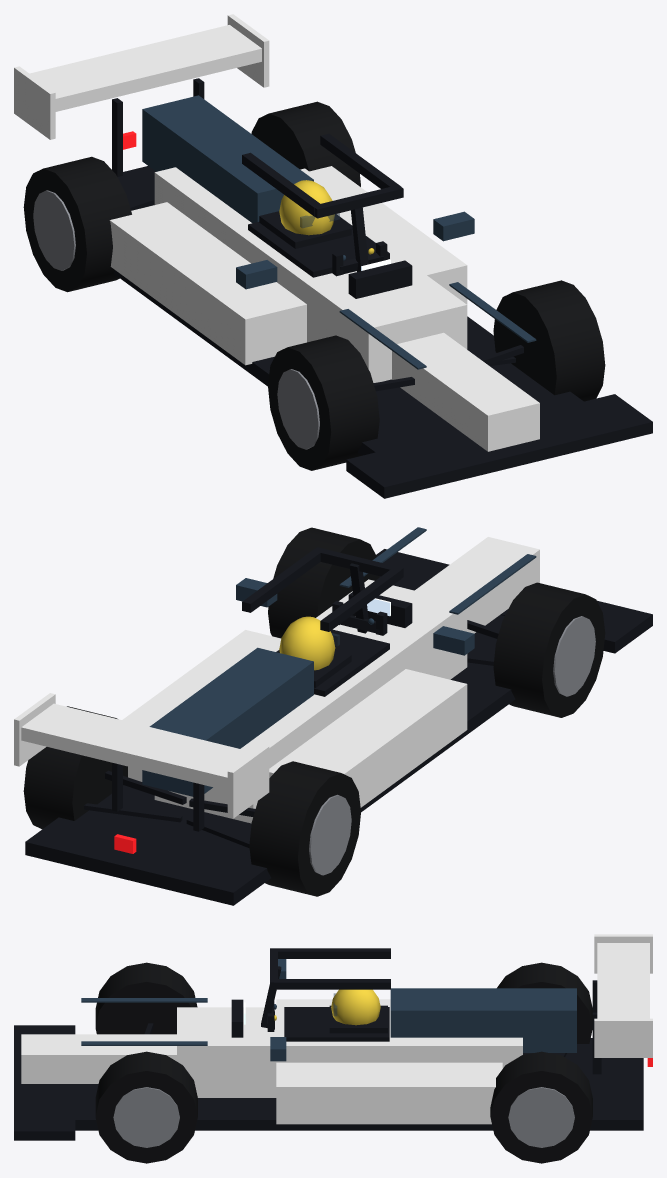
The model's file is kyojo.glb.
3 views of the same model, one above another, from view 1: azimuth 30°, elevation 25°; view 2: azimuth 150°, elevation 25°; view 3: azimuth 270°, elevation 25° (orthographic). The views are drawn at different scales.
Parts seen in each view (by area): view 1: sidepod-left, survival-cell, front-wing, engine-cover, nose, tyre-1-1, tyre--1-1, rear-wing, tyre--1--1, floor, sidepod-right, tyre-1--1 (+17 smaller); view 2: floor, sidepod-left, survival-cell, engine-cover, tyre--1-1, tyre--1--1, rear-wing, tyre-1-1, nose, tyre-1--1, sidepod-right, front-wing (+18 smaller); view 3: sidepod-right, survival-cell, engine-cover, floor, tyre-1-1, tyre-1--1, nose, tyre--1-1, front-wing, rear-wing, rim-1-1, rim-1--1 (+14 smaller).
Part boxes in pixels (left/top/right/bottom): sidepod-left: left=109, top=202, right=306, bottom=365; survival-cell: left=154, top=167, right=467, bottom=382; front-wing: left=346, top=394, right=652, bottom=498; engine-cover: left=142, top=95, right=313, bottom=223; nose: left=392, top=332, right=539, bottom=451; tyre-1-1: left=493, top=280, right=605, bottom=401; tyre--1-1: left=268, top=335, right=379, bottom=470; rear-wing: left=29, top=25, right=261, bottom=111; tyre--1--1: left=23, top=156, right=131, bottom=292; floor: left=113, top=166, right=583, bottom=455; sidepod-right: left=300, top=166, right=467, bottom=304; tyre-1--1: left=251, top=101, right=360, bottom=186; floor: left=25, top=615, right=515, bottom=905; sidepod-left: left=269, top=669, right=467, bottom=807; survival-cell: left=154, top=579, right=467, bottom=823; engine-cover: left=142, top=647, right=313, bottom=796; tyre--1-1: left=493, top=582, right=605, bottom=717; tyre--1--1: left=249, top=761, right=360, bottom=896; rear-wing: left=21, top=703, right=253, bottom=790; tyre-1-1: left=268, top=527, right=379, bottom=638; nose: left=415, top=537, right=539, bottom=633; tyre-1--1: left=23, top=706, right=127, bottom=829; sidepod-right: left=122, top=630, right=280, bottom=781; front-wing: left=376, top=549, right=652, bottom=653; sidepod-right: left=276, top=1062, right=502, bottom=1124; survival-cell: left=177, top=1007, right=522, bottom=1097; engine-cover: left=390, top=988, right=576, bottom=1052; floor: left=75, top=1038, right=643, bottom=1130; tyre-1-1: left=95, top=1051, right=197, bottom=1163; tyre-1--1: left=490, top=1051, right=592, bottom=1163; nose: left=21, top=1034, right=176, bottom=1083; tyre--1-1: left=95, top=962, right=197, bottom=1034; front-wing: left=14, top=1025, right=75, bottom=1140; rear-wing: left=597, top=943, right=649, bottom=1018; rim-1-1: left=113, top=1087, right=179, bottom=1147; rim-1--1: left=508, top=1087, right=574, bottom=1147.
Size of the model in its own units: 1.77 by 1.09 by 4.37.
